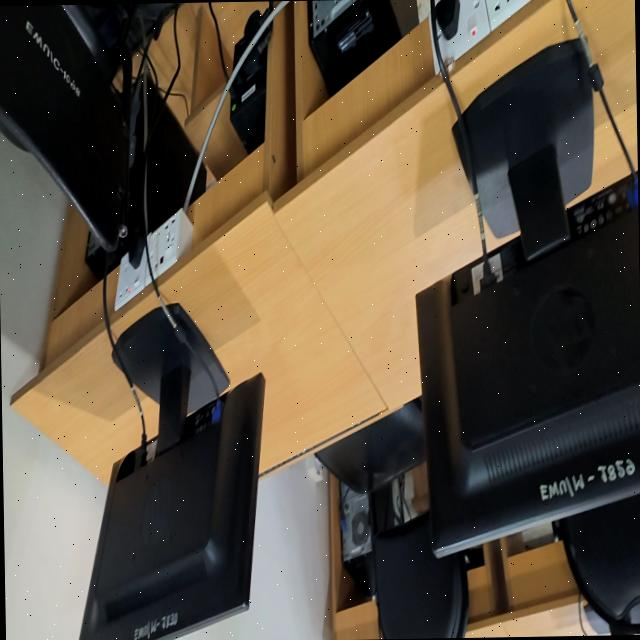Chair: (315, 399, 467, 639), (0, 4, 127, 250), (552, 494, 640, 633)
Cpu: (85, 79, 197, 279), (307, 0, 418, 95)
Monitor: (415, 198, 640, 556), (79, 304, 264, 640)
